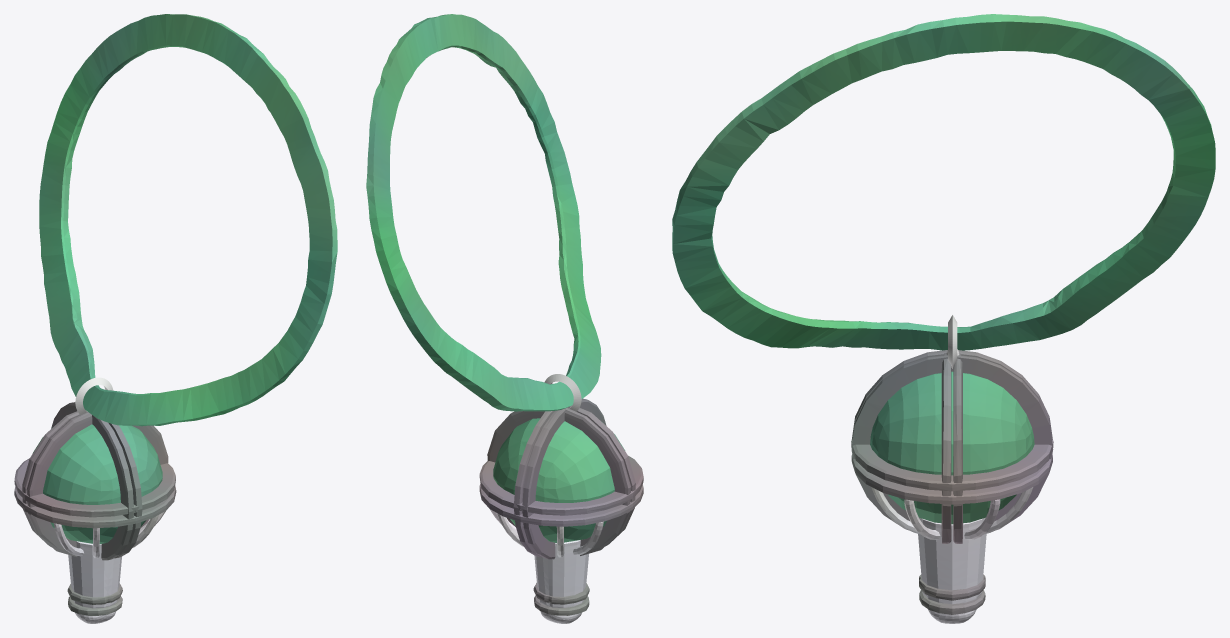
The model's file is cinturaOrione.obj.
3 views of the same model, side by side, from view 1: azimuth 30°, elevation 25°; view 2: azimuth 150°, elevation 25°; view 3: azimuth 270°, elevation 25° (orthographic). The views are drawn at different scales.
Visible parts, largest first — view 1: Group59813, Group29265, Group29310, Group29280, Group29370, Group29415, Group29295, Group29430, Group29445, Group29325, Group29340, Group29460 (+1 smaller); view 2: Group59813, Group29265, Group29445, Group29280, Group29415, Group29370, Group29295, Group29430, Group29310, Group29325, Group29340, Group29385 (+2 smaller); view 3: Group59813, Group29265, Group29430, Group29370, Group29280, Group29295, Group29310, Group29445, Group29415, Group29385, Group29400, Group29325 (+1 smaller).
Boxes of the visible parts, box(x1,y1,x2,y2) form: Group59813: box(39, 14, 337, 426); Group29265: box(32, 424, 162, 544); Group29310: box(26, 412, 168, 556); Group29280: box(14, 458, 175, 517); Group29370: box(68, 541, 121, 608); Group29415: box(51, 402, 133, 560); Group29295: box(14, 486, 176, 528); Group29430: box(108, 423, 142, 558); Group29445: box(22, 411, 79, 547); Group29325: box(68, 596, 122, 615); Group29340: box(67, 583, 122, 604); Group29460: box(75, 377, 113, 414); Group59813: box(366, 14, 601, 411); Group29265: box(493, 418, 625, 542); Group29445: box(487, 407, 631, 555); Group29280: box(479, 456, 643, 515); Group29415: box(522, 398, 606, 559); Group29370: box(534, 540, 588, 608); Group29295: box(479, 483, 643, 526); Group29430: box(513, 410, 555, 557); Group29310: box(569, 405, 635, 545); Group29325: box(534, 595, 589, 615); Group29340: box(533, 582, 589, 604); Group29385: box(497, 513, 564, 557); Group59813: box(672, 14, 1215, 350); Group29265: box(870, 371, 1034, 524); Group29430: box(851, 355, 1053, 529); Group29370: box(918, 517, 986, 604); Group29280: box(851, 439, 1053, 491); Group29295: box(851, 454, 1052, 504); Group29310: box(941, 353, 951, 543); Group29445: box(953, 353, 962, 543); Group29415: box(852, 350, 1052, 439); Group29385: box(871, 487, 1033, 534); Group29400: box(904, 499, 1000, 539); Group29325: box(919, 590, 985, 614).
Bounding box in the file's own units: 0.8415 × 1.99 × 1.42.
Materials: 1 (1 with a texture image).
